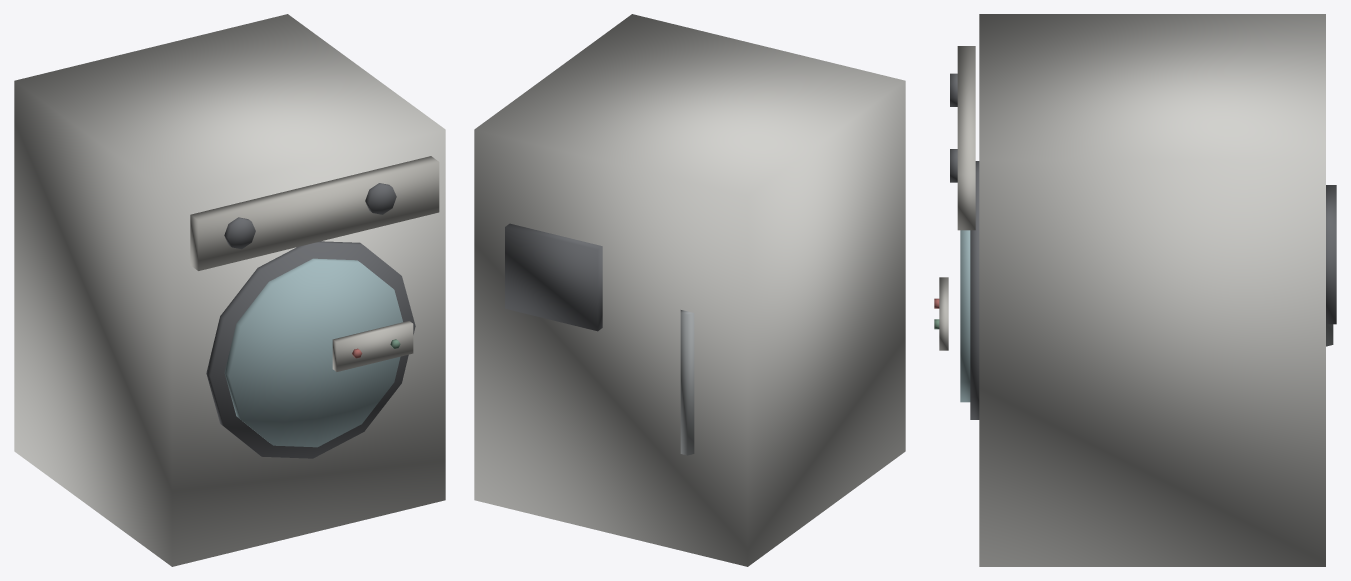
File: domestic_washer__service.glb
3 views of the same model, side by side, from view 1: azimuth 30°, elevation 25°; view 2: azimuth 150°, elevation 25°; view 3: azimuth 270°, elevation 25° (orthographic). The views are drawn at different scales.
Parts seen in each view (by area): view 1: world; view 2: world; view 3: world.
Boxes of the visible parts, x1,y1,x2,y2 form: world: (14, 14, 445, 566); world: (474, 14, 905, 566); world: (934, 14, 1336, 566).
Size of the model in its own units: 0.68 by 0.88 by 0.7896.
